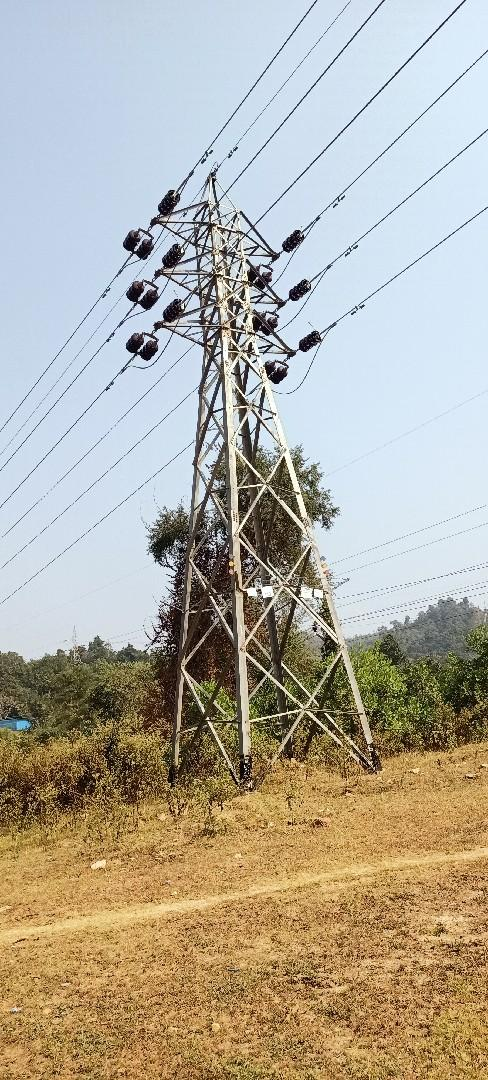GSM Antenna: (140, 162, 369, 716)
